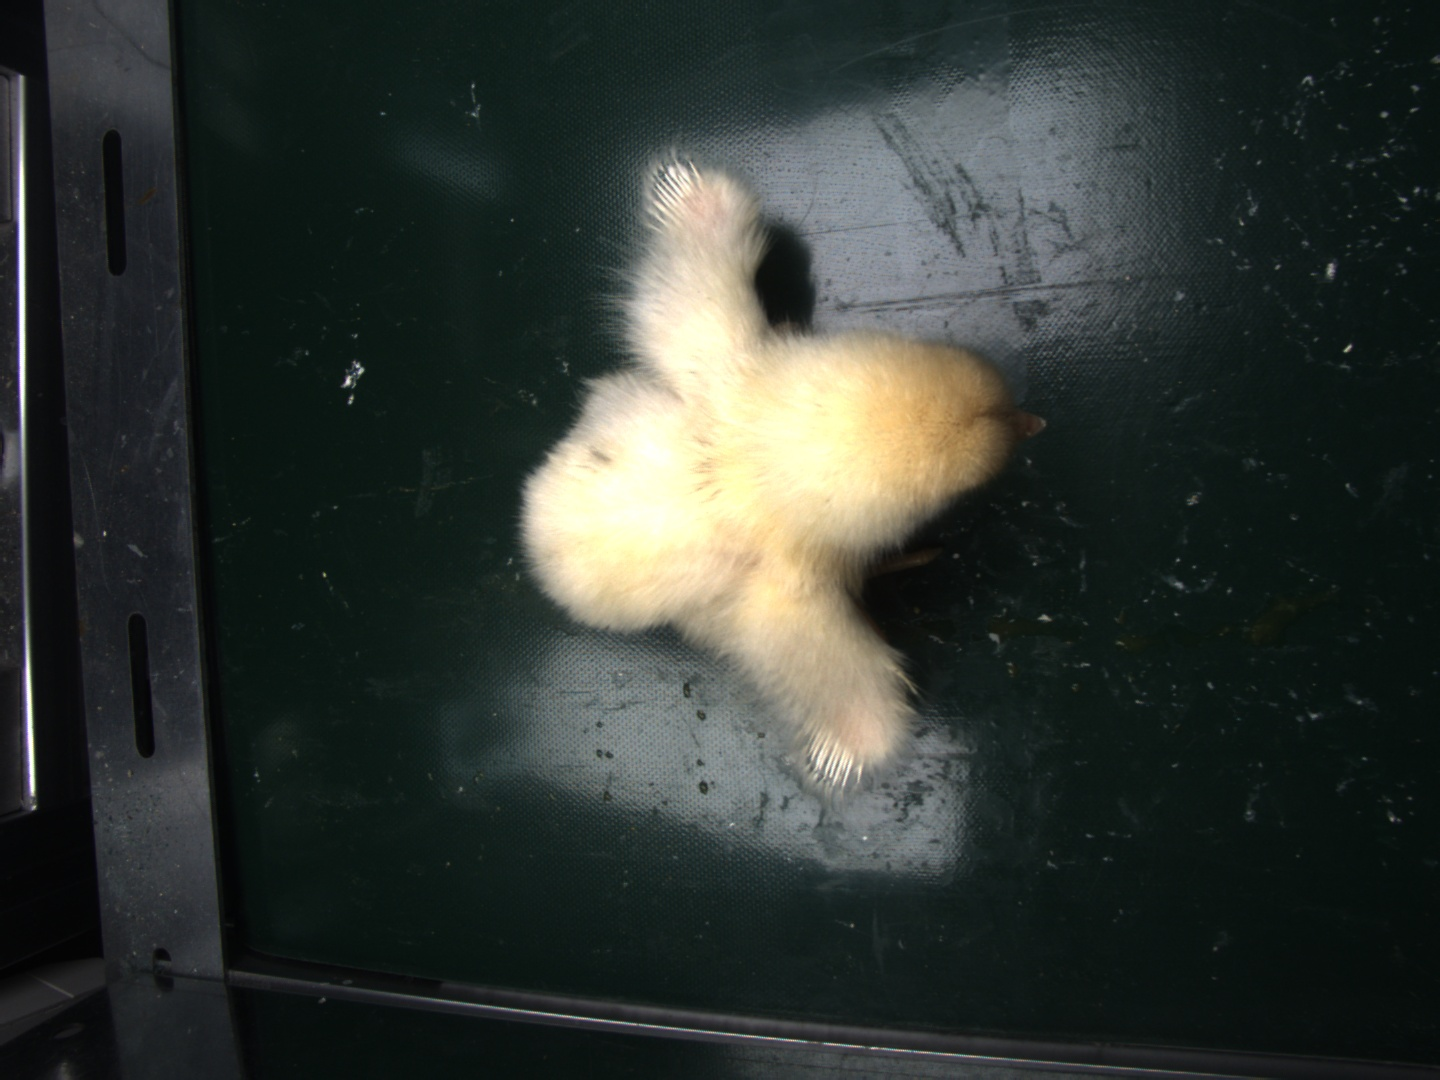male: (805, 722, 873, 792), (645, 158, 706, 228)
